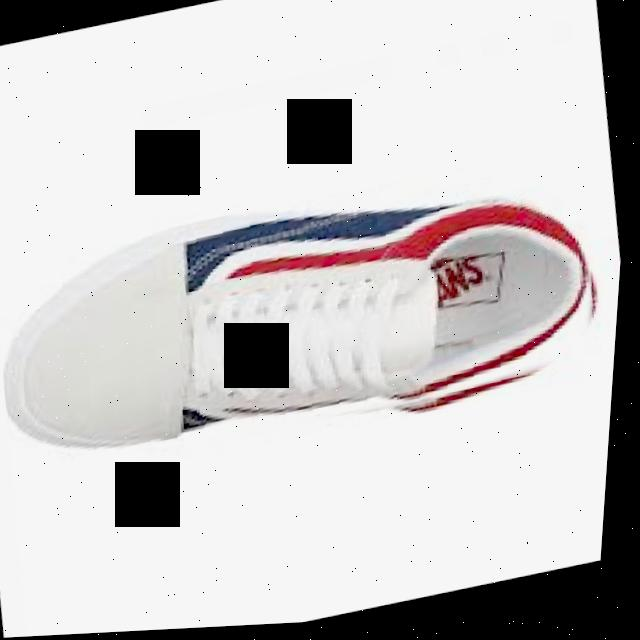shoe: (0, 146, 625, 503)
